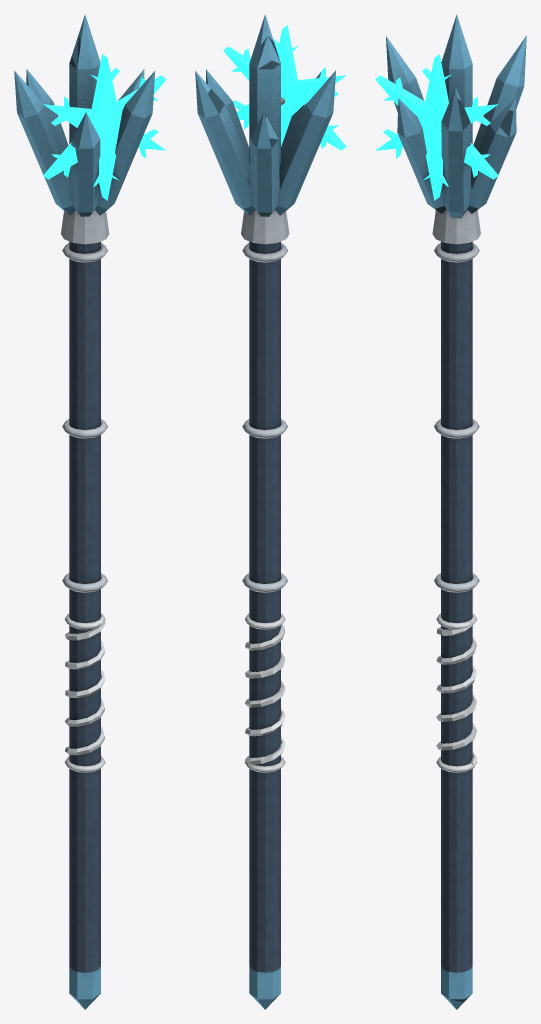
The model's file is 04_tundra_magic.fbx.
3 renders of one model, left to right at view 1: azimuth 30°, elevation 25°; view 2: azimuth 150°, elevation 25°; view 3: azimuth 330°, elevation 25°, orthographic.
Visible parts, largest first — view 1: Weapon; view 2: Weapon; view 3: Weapon.
Boxes of the visible parts, x1,y1,x2,y2 form: Weapon: [14, 14, 166, 1009]; Weapon: [195, 14, 346, 1009]; Weapon: [375, 14, 526, 1009].
Bounding box in the file's own units: 22.97 × 168 × 21.79.
Materials: 2 (1 with a texture image).
